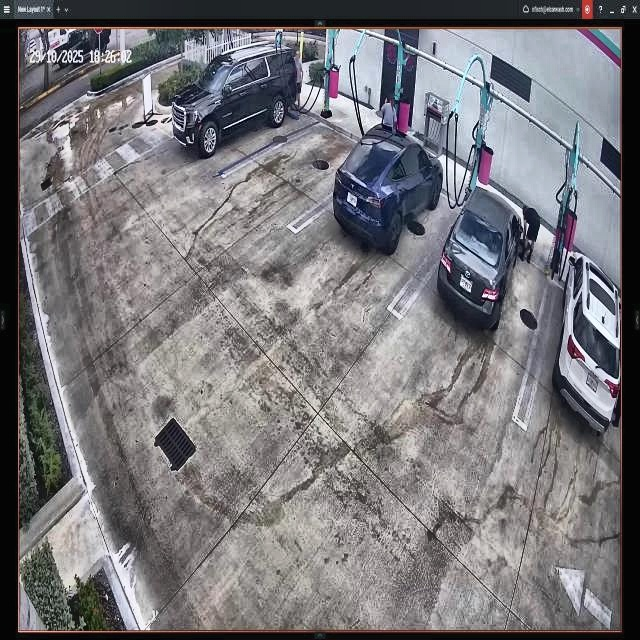Car: (334, 124, 443, 245), (439, 185, 522, 325)
